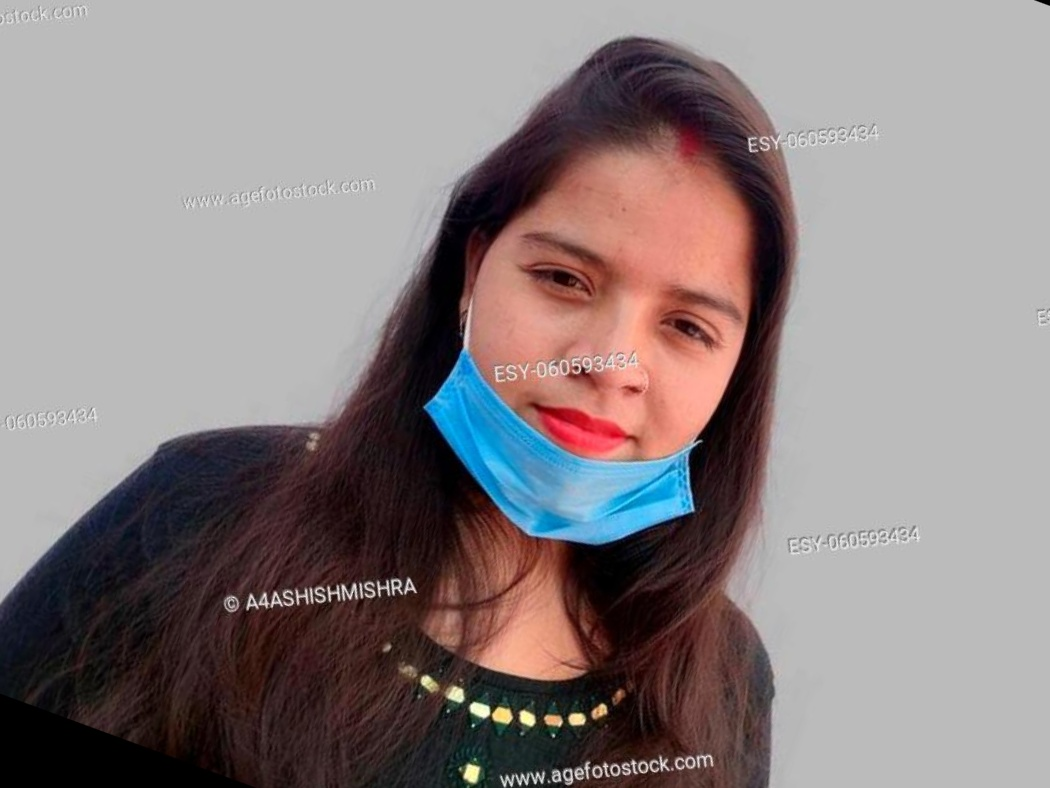mask_weared_incorrect: (422, 88, 780, 548)
